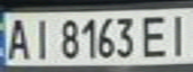1: (78, 15, 100, 60)
3: (115, 13, 139, 60)
6: (97, 15, 118, 60)
8: (54, 16, 81, 60)
A: (3, 15, 33, 61)
E: (136, 11, 175, 60)
I: (163, 10, 193, 57), (27, 15, 57, 61)
